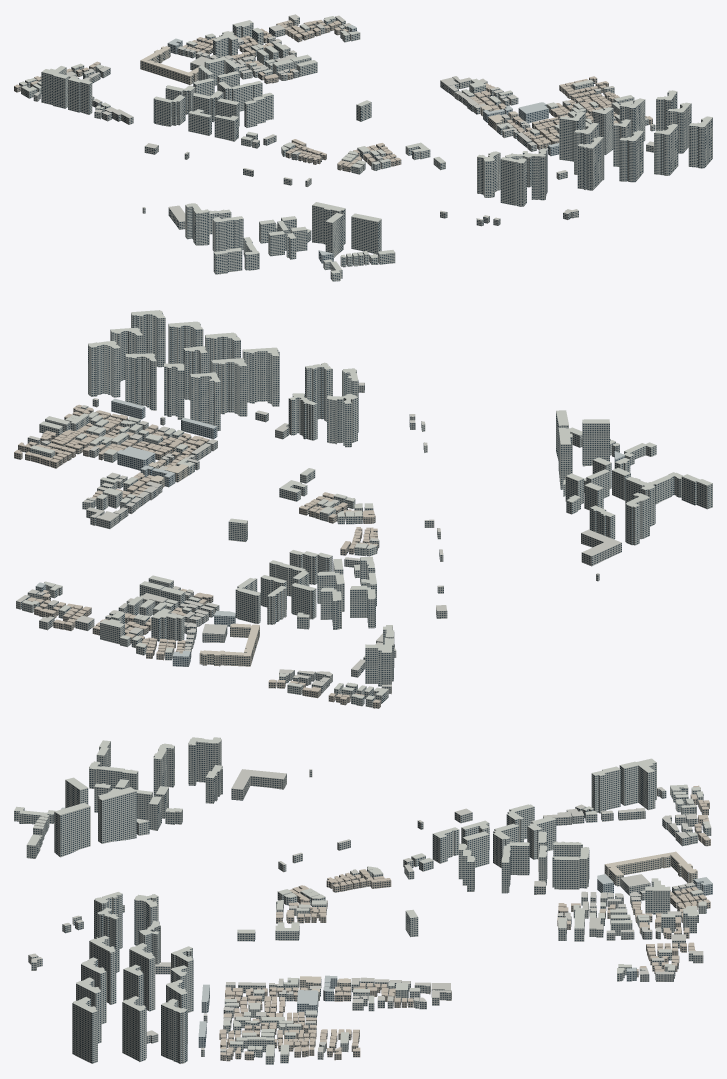
The model's file is city_5_-5.glb.
3 views of the same model, one above another, from view 1: azimuth 30°, elevation 25°; view 2: azimuth 150°, elevation 25°; view 3: azimuth 270°, elevation 25° (orthographic). The views are drawn at different scales.
Bounding box in the file's own units: 1040 × 92.1 × 1032.
Materials: 5 (5 with a texture image).
